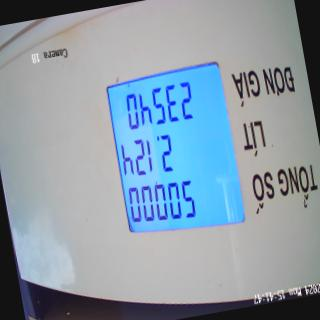screen: (101, 60, 252, 249)
